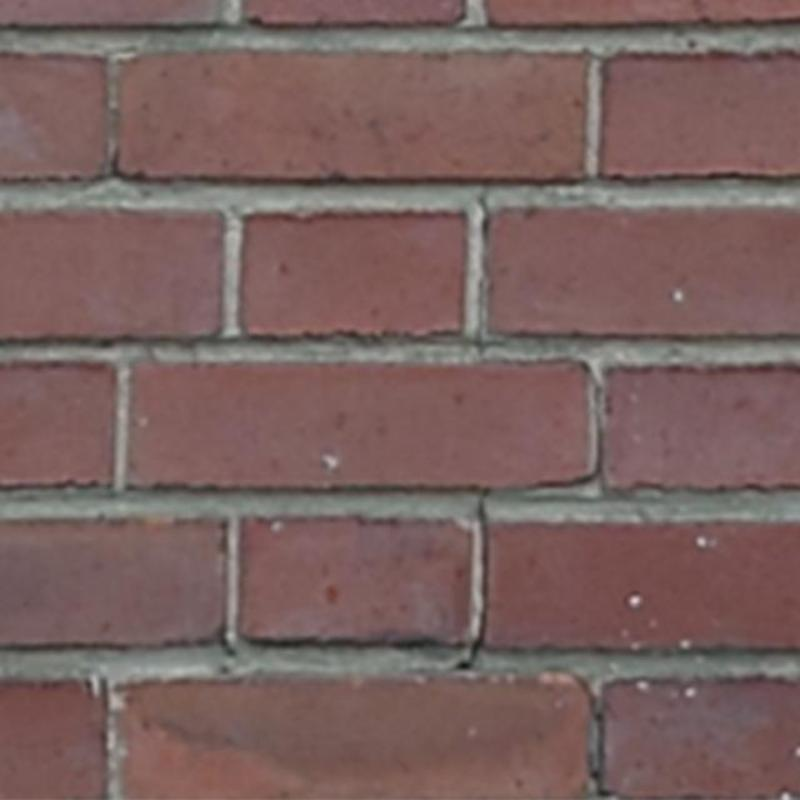pothole: (525, 380, 604, 491), (453, 484, 492, 670), (572, 674, 621, 796)
